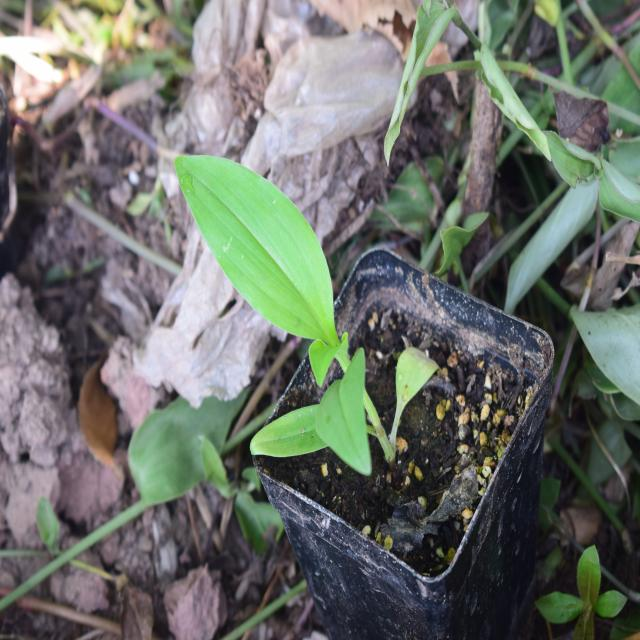Common Dayflower: (178, 146, 430, 497)
